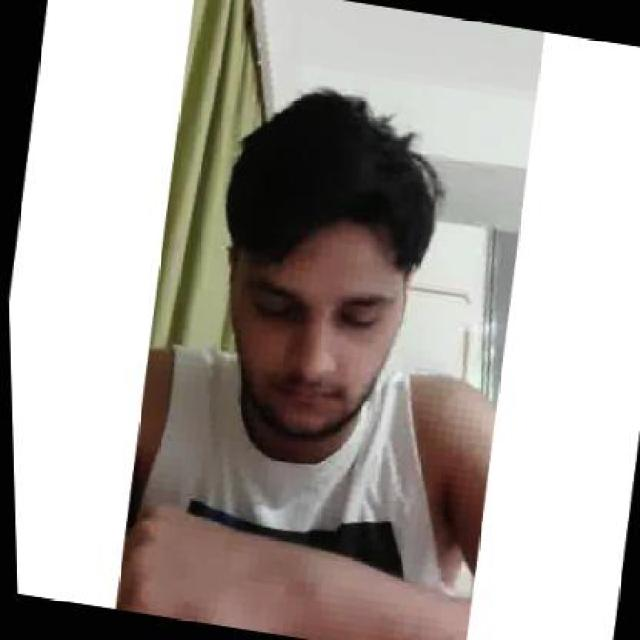inattentif: (188, 77, 450, 455)
